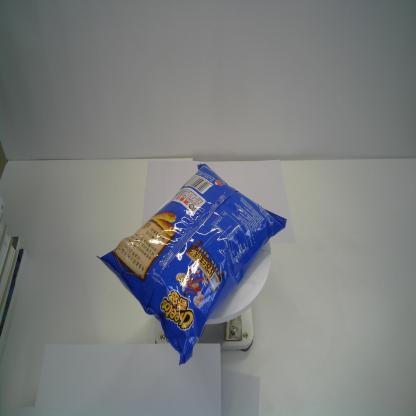Puffed Food: (95, 160, 289, 367)
